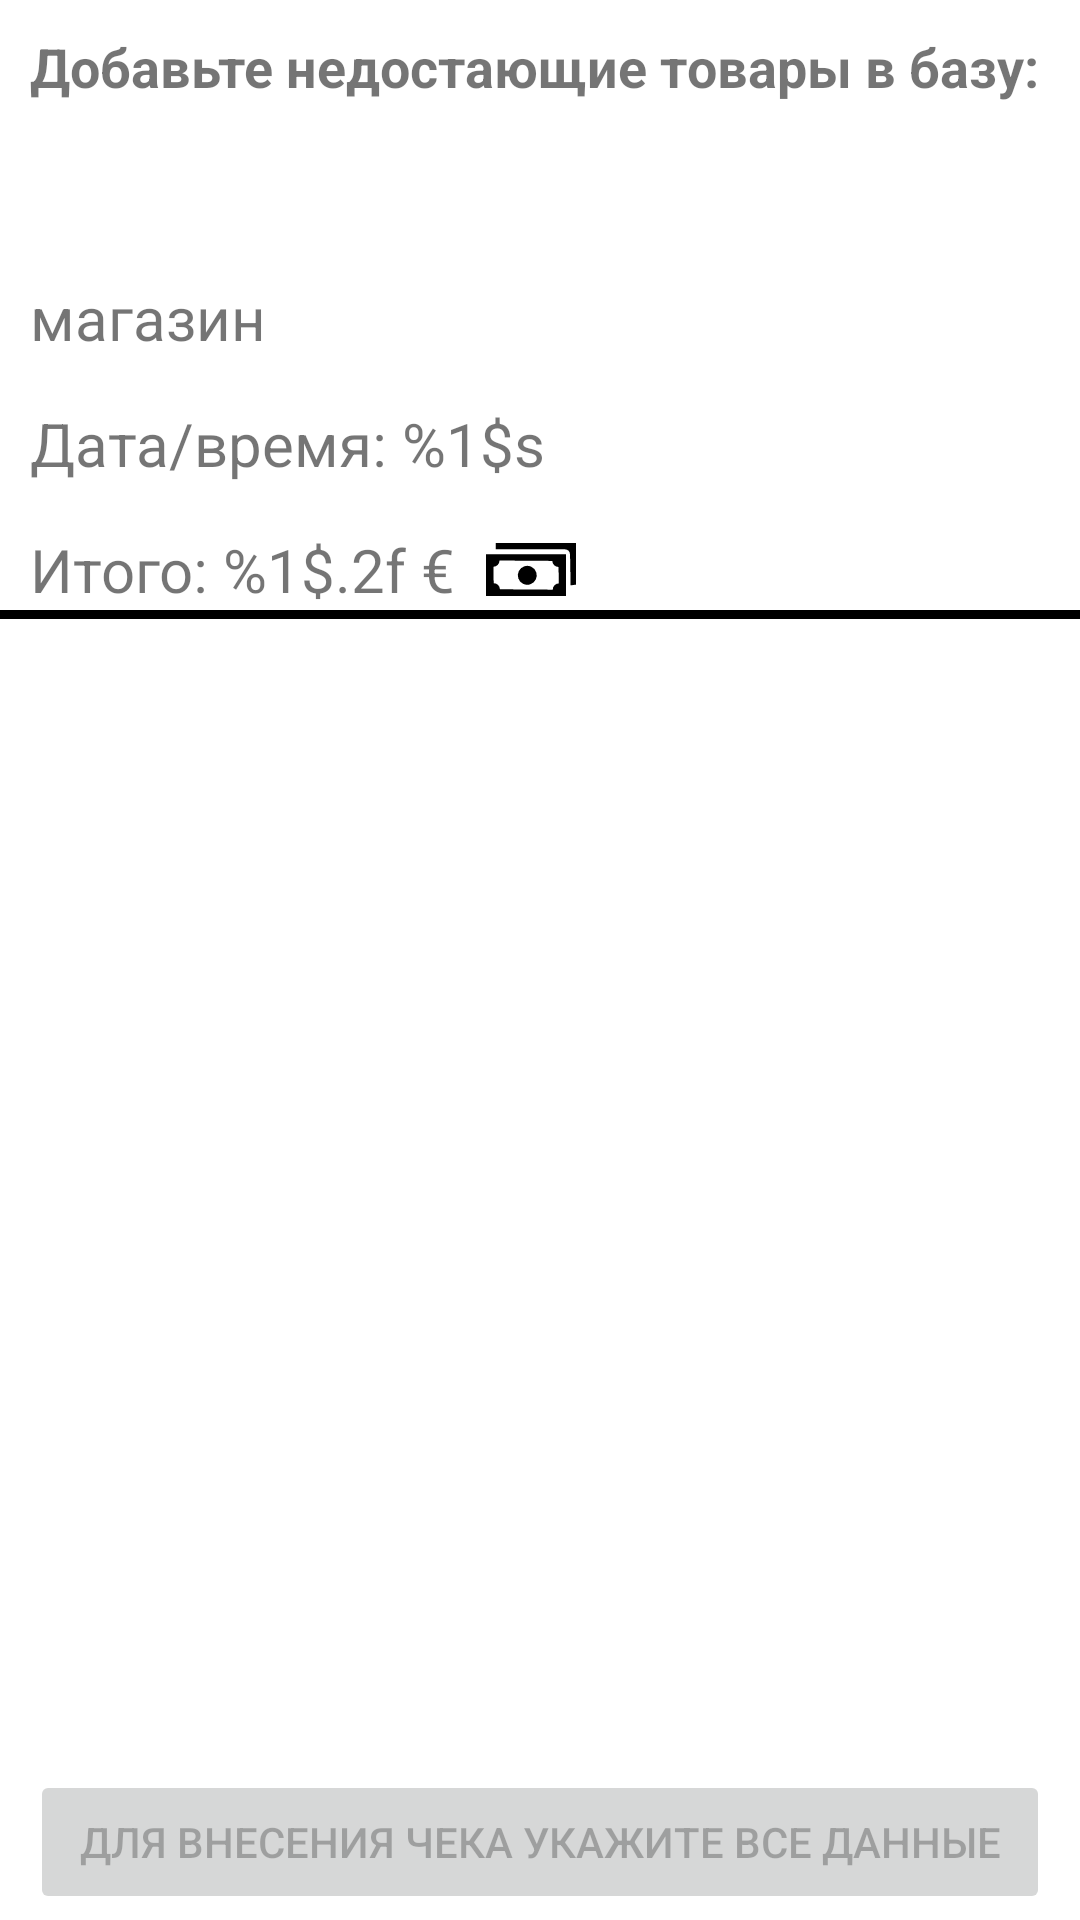

Icons on this 1080×1920 Android screen, each with its box as (x1, y1, x2, y2):
за наличные: (486, 543, 576, 596)
